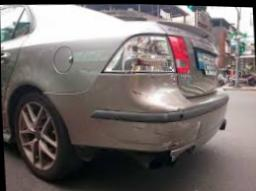Bumper: (70, 73, 197, 153)
Light: (104, 34, 171, 70)
